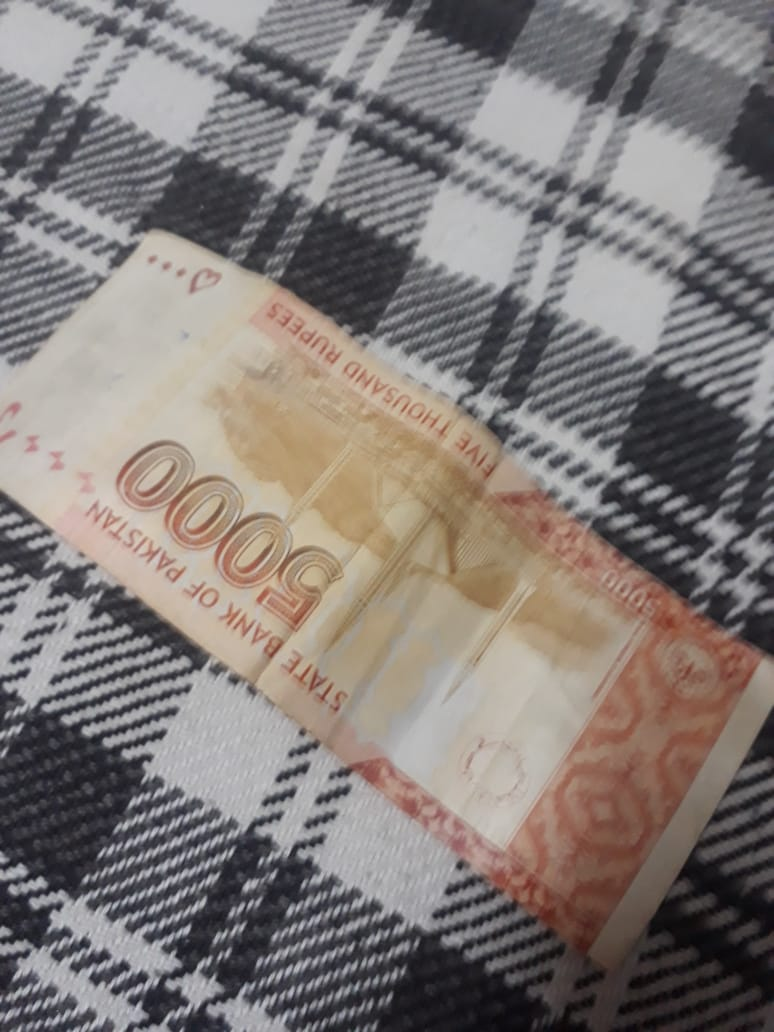5000 rupee: (12, 217, 774, 988)
